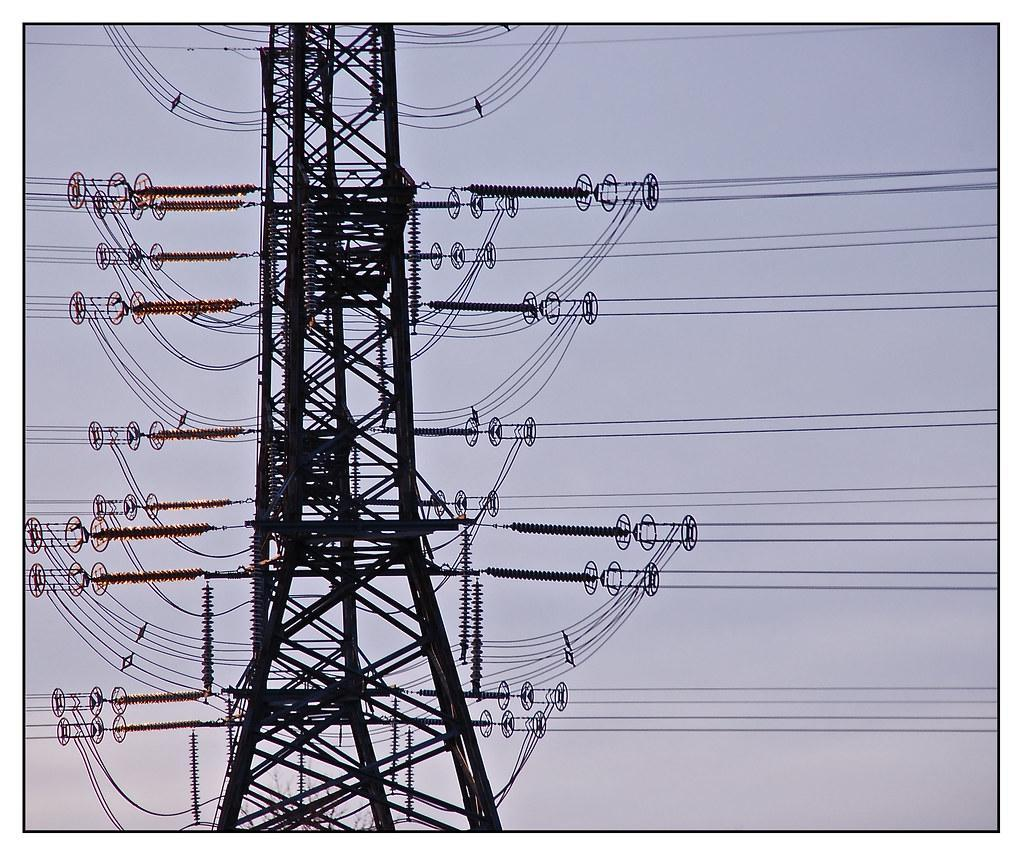power_tower: (32, 19, 695, 826)
